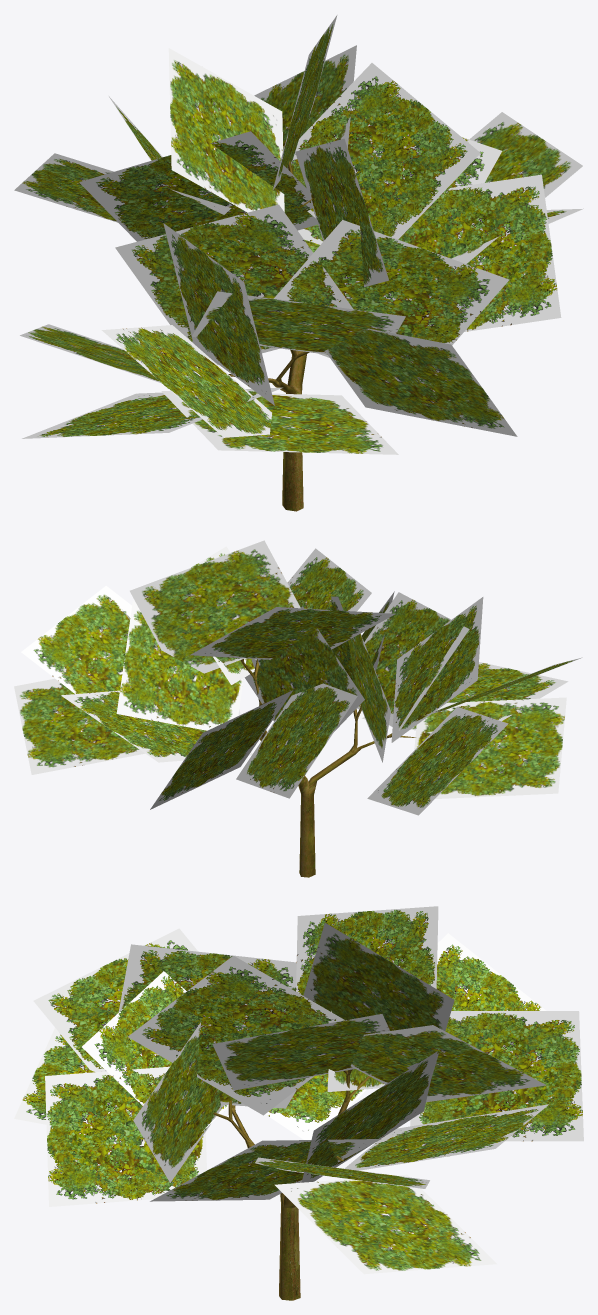
Rendered from Tree.gltf.
The picture shows the model from 3 angles, top to bottom: view 1: azimuth 30°, elevation 25°; view 2: azimuth 150°, elevation 25°; view 3: azimuth 270°, elevation 25°; orthographic projection. The views are drawn at different scales.
Visible parts, largest first — view 1: TreeLeaves, Tree; view 2: TreeLeaves, Tree; view 3: TreeLeaves, Tree.
Part boxes in pixels (left/top/right/bottom): TreeLeaves: left=14, top=15, right=583, bottom=454; Tree: left=228, top=146, right=313, bottom=511; TreeLeaves: left=14, top=540, right=582, bottom=815; Tree: left=240, top=659, right=440, bottom=877; TreeLeaves: left=14, top=906, right=583, bottom=1274; Tree: left=213, top=1069, right=370, bottom=1300.
Size of the model in its own units: 295 by 193 by 255.
Materials: 2 (2 with a texture image).
